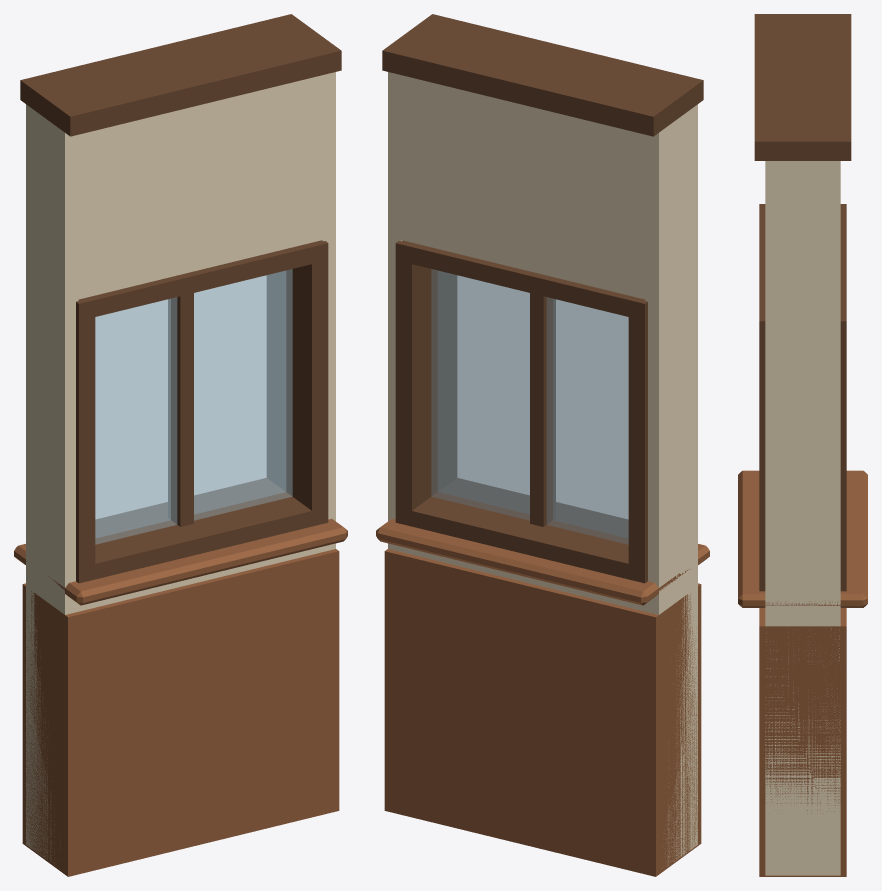
Rendered from wall_window.glb.
3 views of the same model, side by side, from view 1: azimuth 30°, elevation 25°; view 2: azimuth 150°, elevation 25°; view 3: azimuth 270°, elevation 25° (orthographic). The views are drawn at different scales.
Visible parts, largest first — view 1: wall_window; view 2: wall_window; view 3: wall_window.
Part boxes in pixels (x1,y1,x2,y2): wall_window: (14, 14, 347, 876); wall_window: (376, 14, 709, 876); wall_window: (738, 14, 867, 876).
Bounding box in the file's own units: 1 × 2.69 × 0.43.
